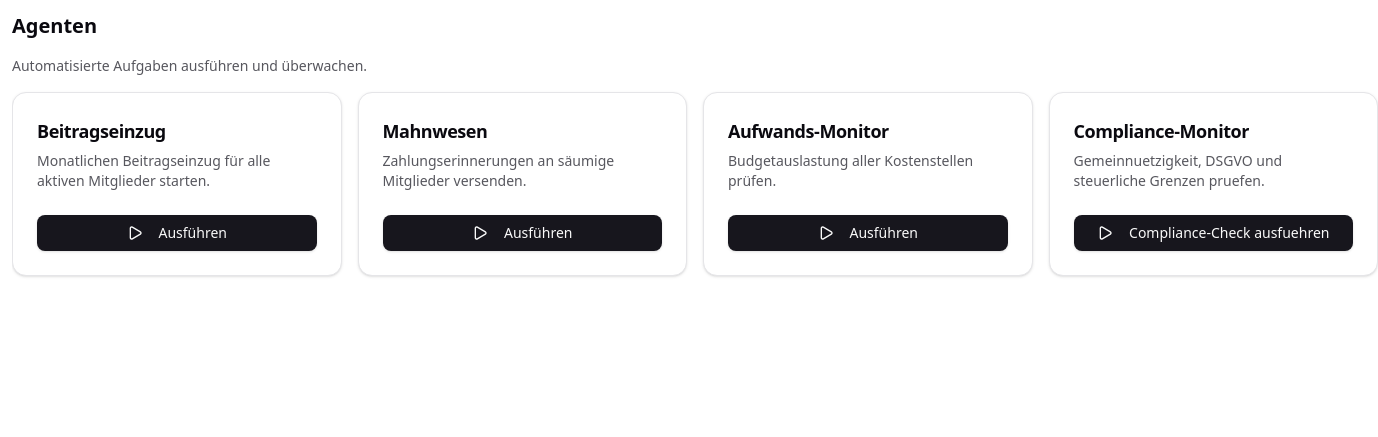
AgentDashboard › handles Compliance-Monitor execution and shows findings
Click the button with test id "run-compliance": [1213, 233] box top-left (1074, 215), bottom-right (1353, 251)
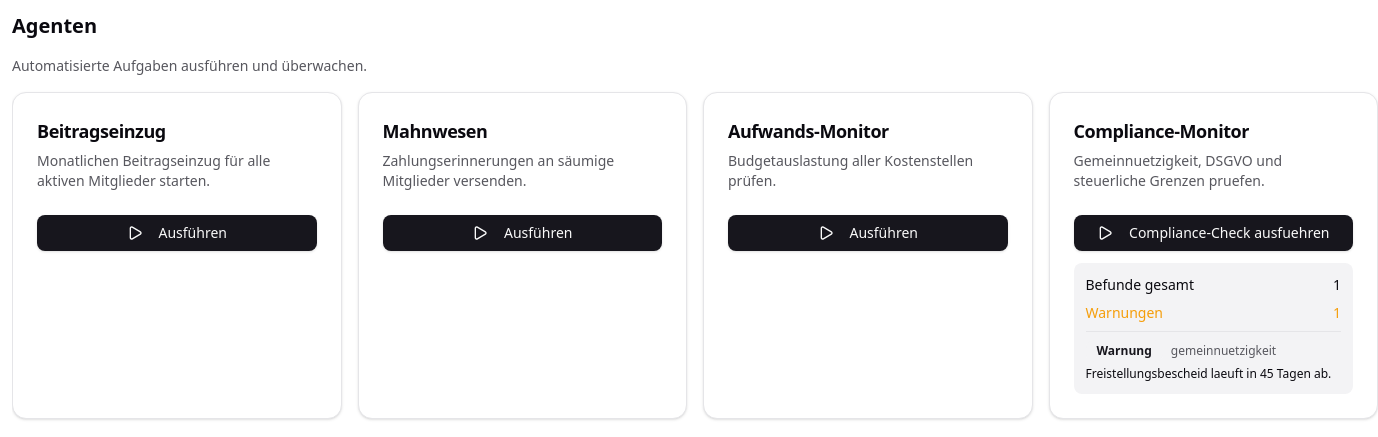
Expected: the text "Freistellungsbescheid laeuft in 45 Tagen ab." is shown, top-left (1086, 366), bottom-right (1341, 382)
Expected: the text "Warnung" is shown, top-left (1086, 340), bottom-right (1163, 362)
